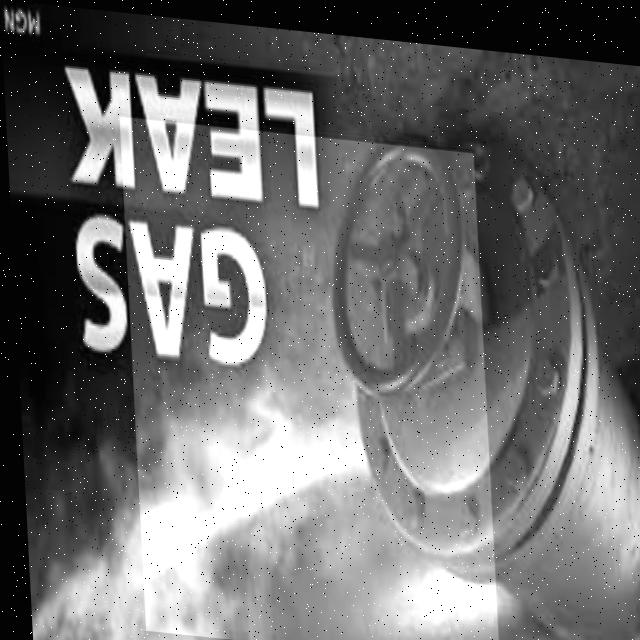corrosion: (120, 117, 499, 640)
